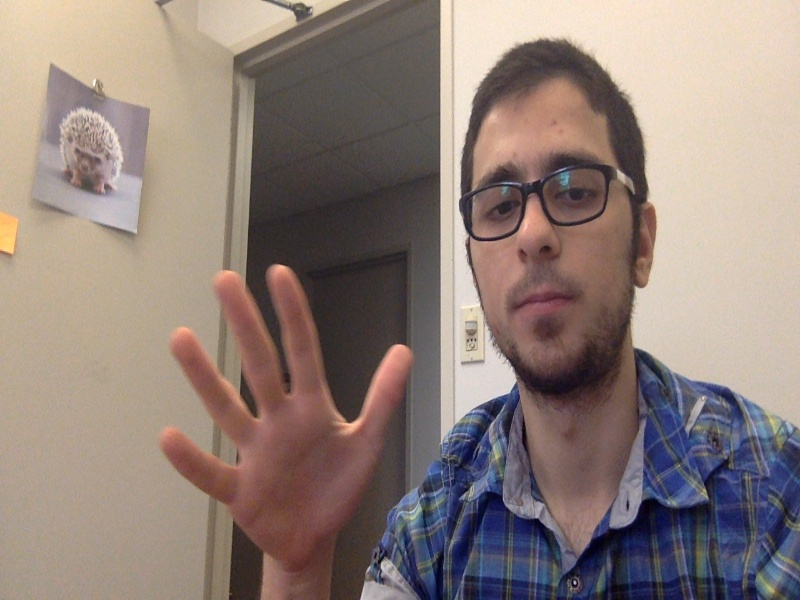5-hand: (156, 263, 415, 564)
